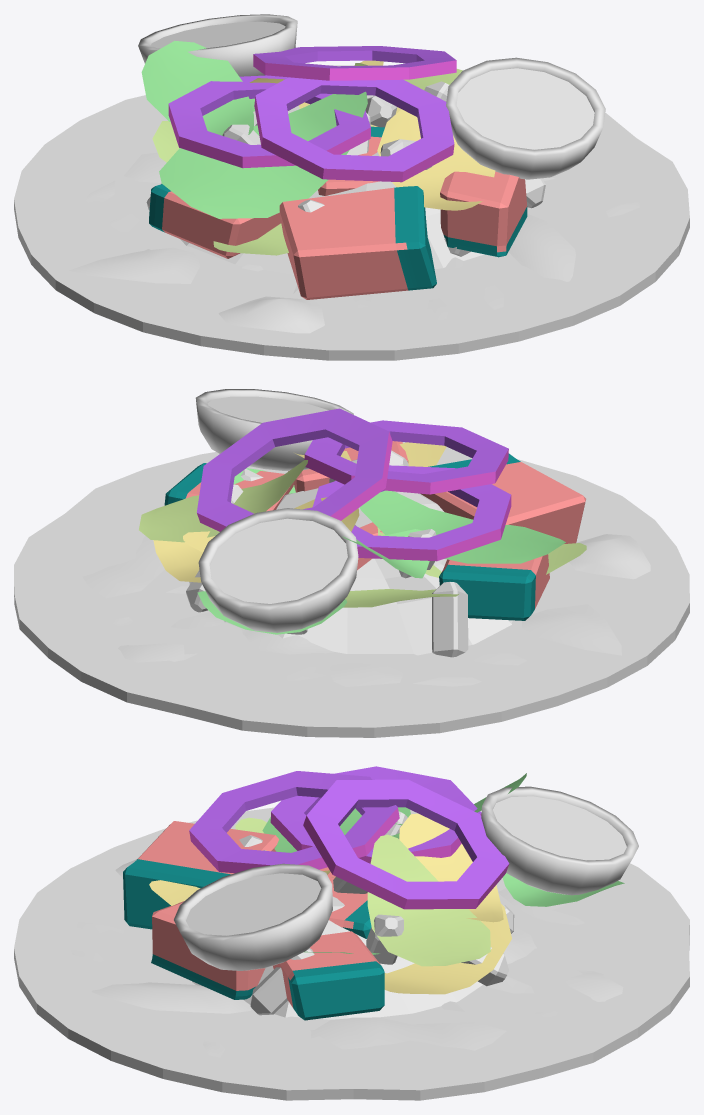
File: TortillaAssembled_V2 (1).fbx
3 views of the same model, one above another, from view 1: azimuth 30°, elevation 25°; view 2: azimuth 150°, elevation 25°; view 3: azimuth 270°, elevation 25° (orthographic).
Visible parts, largest first — view 1: Wrap, Meat - Chopped.001, Salad.003, Tortilla_Charred, Circle.004, Circle.001, Skin, Circle.002, Liquid, Liquid.001, Skin.001, Cube (+3 smaller); view 2: Wrap, Salad.003, Tortilla_Charred, Meat - Chopped.001, Circle.002, Cylinder.001, Circle.004, Skin.001, Circle.001, Liquid.002, Liquid.003, Skin (+3 smaller); view 3: Wrap, Meat - Chopped.001, Salad.003, Circle.002, Tortilla_Charred, Circle.004, Skin, Skin.001, Circle.001, Cube, Liquid, Liquid.002 (+3 smaller).
Part boxes in pixels (<box>): Wrap: <box>14,65,689,360</box>; Meat - Chopped.001: <box>149,126,527,299</box>; Salad.003: <box>141,40,495,255</box>; Tortilla_Charred: <box>69,105,639,333</box>; Circle.004: <box>254,77,454,182</box>; Circle.001: <box>168,75,370,168</box>; Skin: <box>446,57,605,179</box>; Circle.002: <box>253,46,456,80</box>; Liquid: <box>456,68,594,149</box>; Liquid.001: <box>473,77,577,141</box>; Skin.001: <box>138,14,297,76</box>; Cube: <box>146,81,545,256</box>; Wrap: <box>14,442,689,737</box>; Salad.003: <box>139,442,586,634</box>; Tortilla_Charred: <box>82,534,650,686</box>; Meat - Chopped.001: <box>164,441,585,620</box>; Circle.002: <box>196,408,392,531</box>; Cylinder.001: <box>189,488,512,655</box>; Circle.004: <box>304,420,508,494</box>; Skin.001: <box>198,508,358,632</box>; Circle.001: <box>312,465,511,561</box>; Liquid.002: <box>210,518,347,603</box>; Liquid.003: <box>227,528,330,595</box>; Skin: <box>195,389,353,470</box>; Wrap: <box>14,807,689,1100</box>; Meat - Chopped.001: <box>123,821,384,1020</box>; Salad.003: <box>149,773,624,994</box>; Circle.002: <box>303,779,509,909</box>; Tortilla_Charred: <box>71,859,623,1057</box>; Circle.004: <box>189,771,399,873</box>; Skin: <box>174,863,332,970</box>; Skin.001: <box>481,786,638,895</box>; Circle.001: <box>270,766,481,863</box>; Cube: <box>239,811,514,1015</box>; Liquid: <box>186,873,321,935</box>; Liquid.002: <box>493,796,626,860</box>.
Size of the model in its own units: 0.5939 by 0.5912 by 0.1715.
